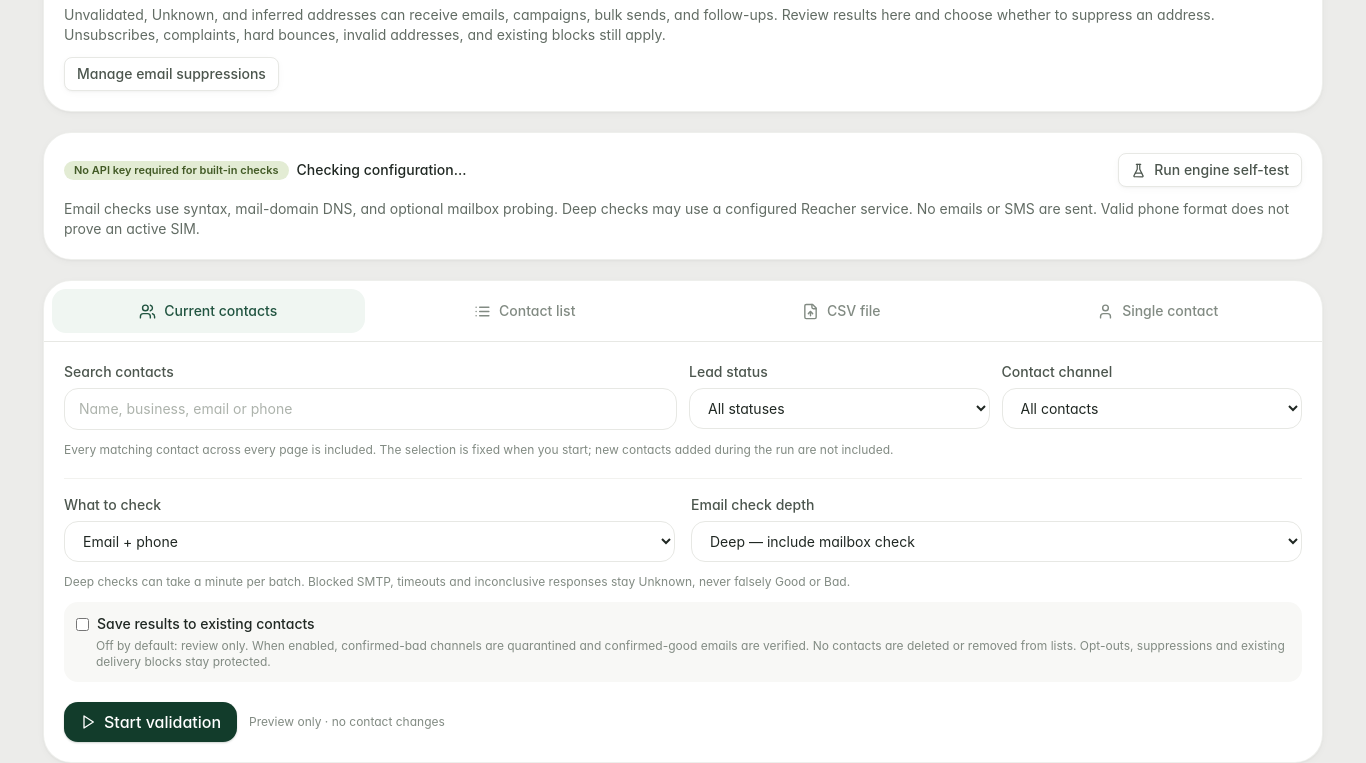
Test: Validator workspace › filters bad, good, risky, unknown and missing results separately
(page scrolled)
Click the button "Start validation".
click(151, 722)  # box [64, 702, 237, 742]
(page scrolled)
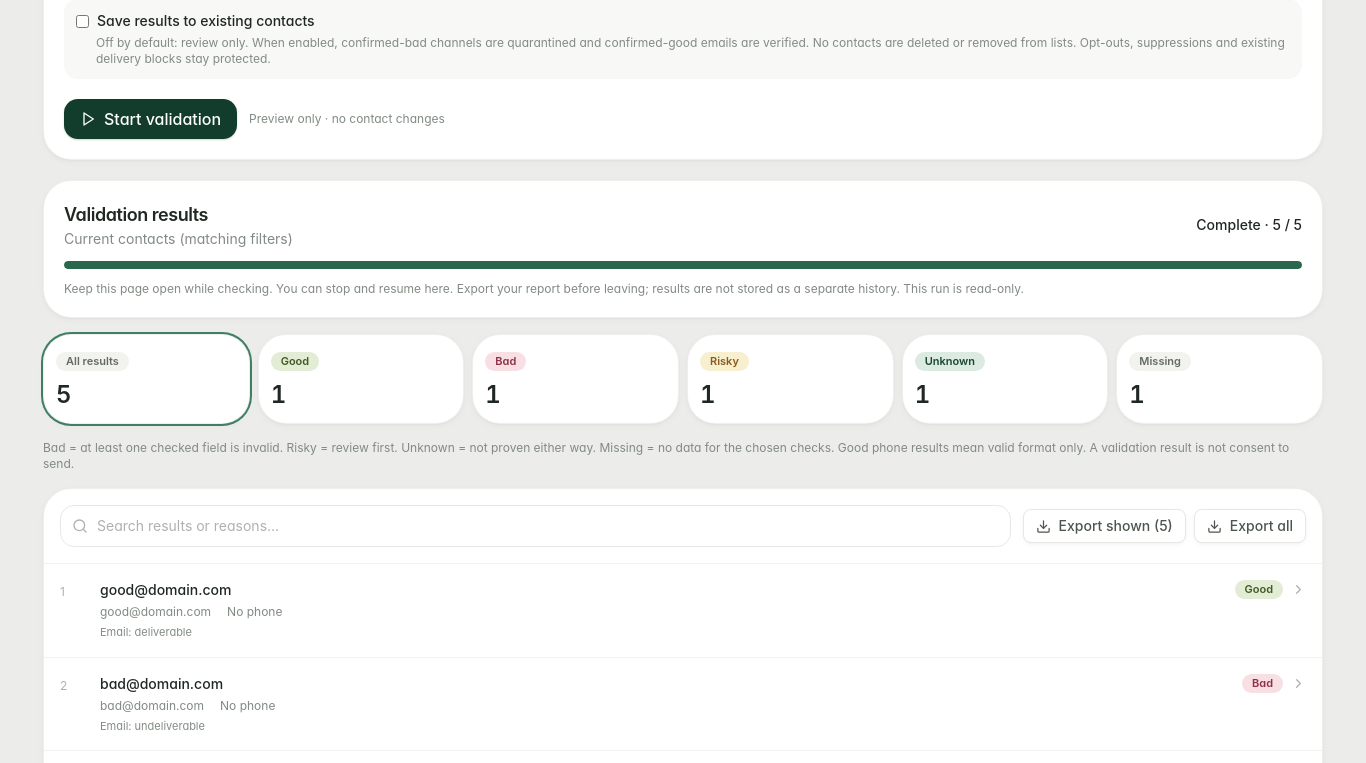
Result: the text "Complete · 5 / 5" is shown at [1196, 215, 1302, 235]
Click the button "Bad 1".
click(576, 379)  # box [472, 334, 679, 424]
(page scrolled)
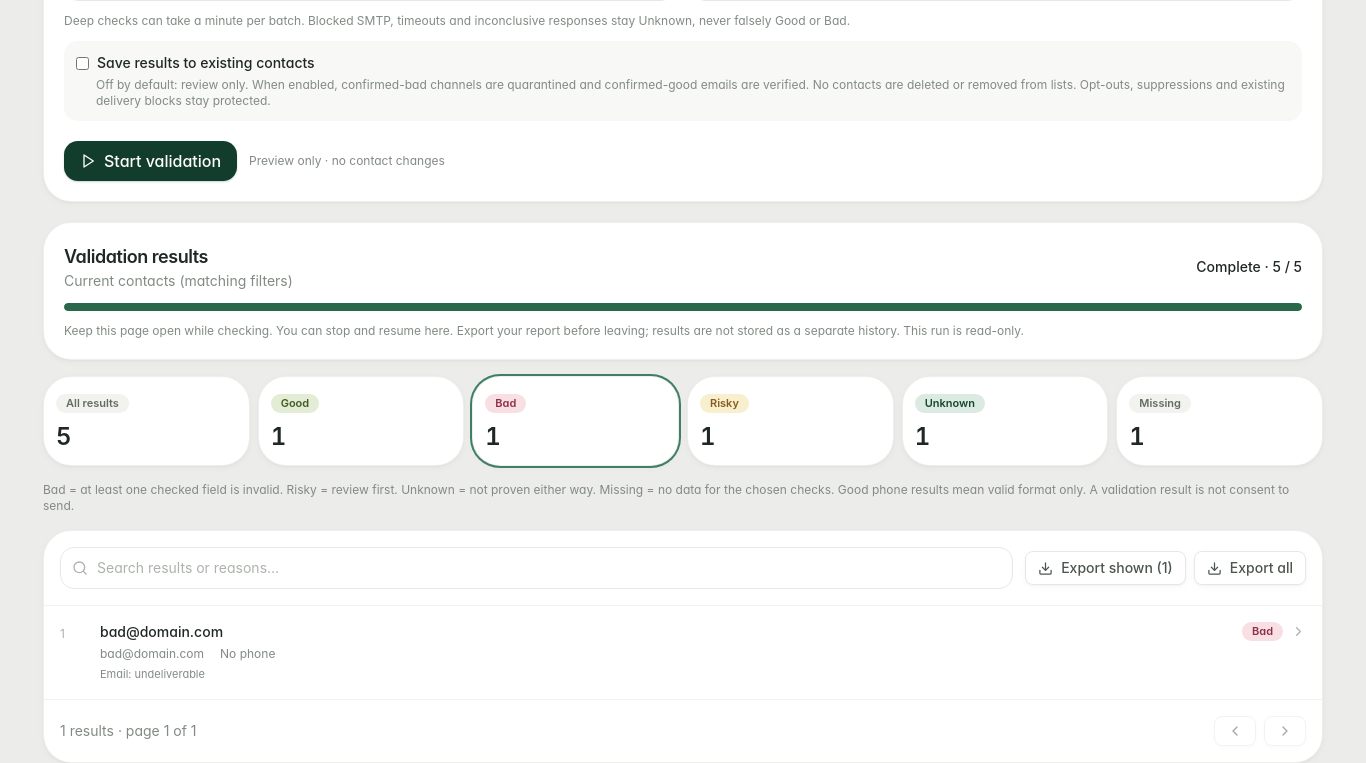
Result: the button "Export shown (1)" is enabled at [1025, 551, 1186, 585]
Result: the text "1 results · page 1 of 1" is shown at [60, 720, 196, 740]
